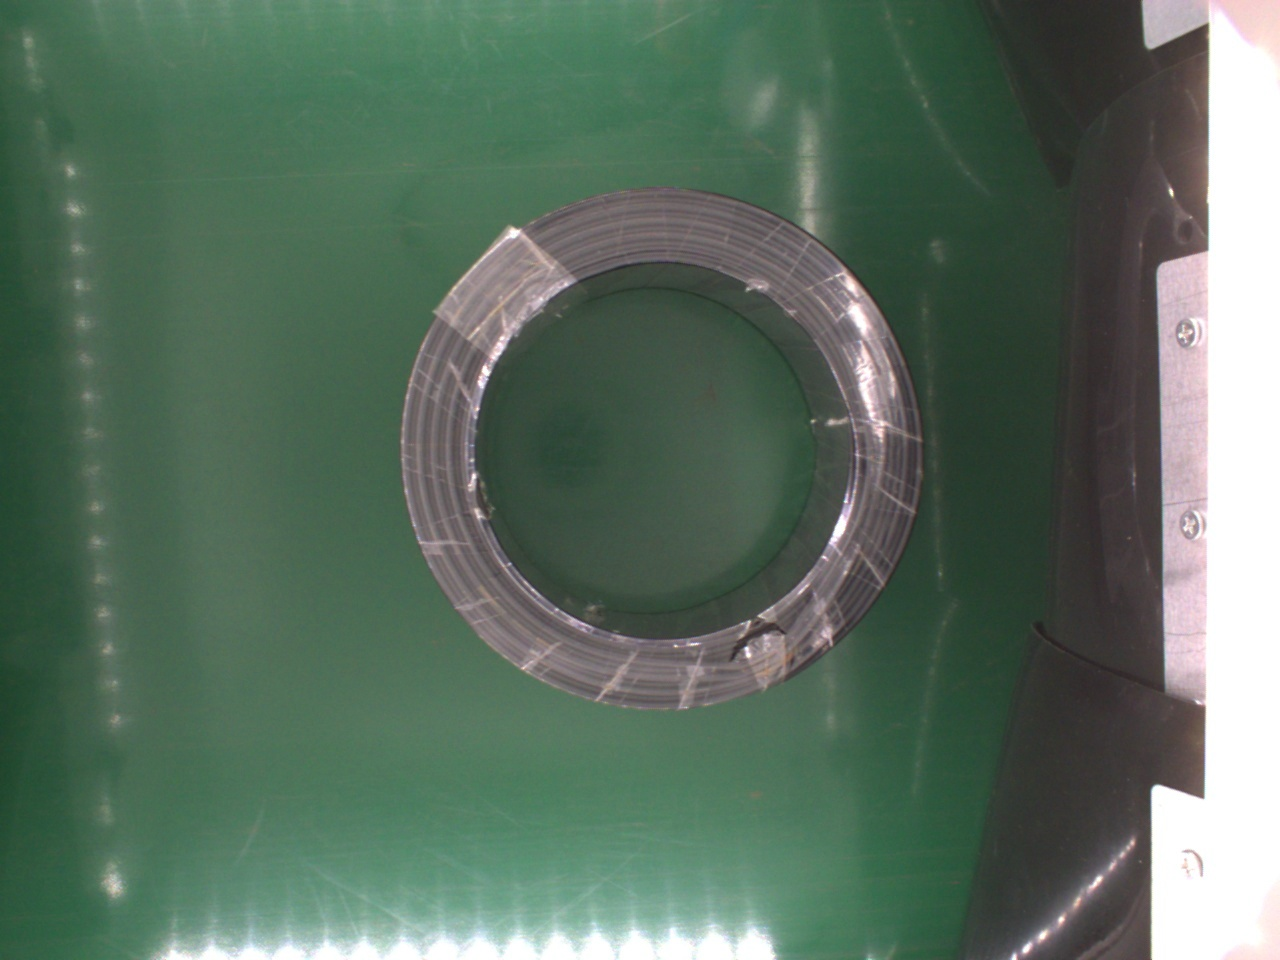black: (397, 182, 921, 710)
